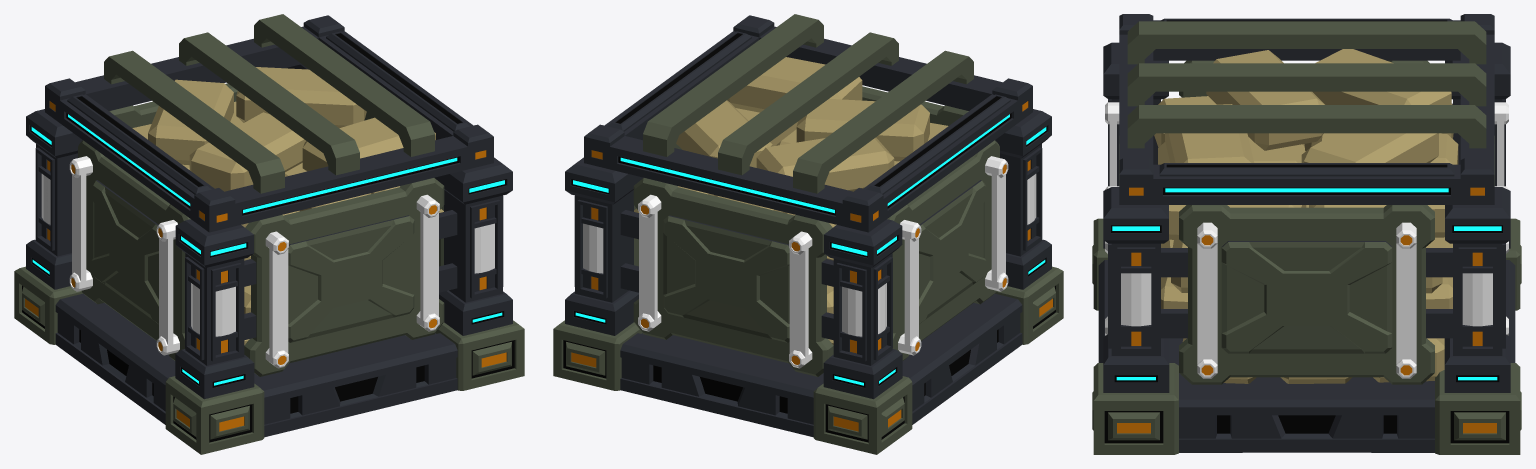
Rendered from SM_Military_Wall_T3.fbx.
3 views of the same model, side by side, from view 1: azimuth 30°, elevation 25°; view 2: azimuth 150°, elevation 25°; view 3: azimuth 270°, elevation 25° (orthographic). The views are drawn at different scales.
Visible parts, largest first — view 1: SM_Military_Wall_T3; view 2: SM_Military_Wall_T3; view 3: SM_Military_Wall_T3.
Part boxes in pixels (left/top/right/bottom): SM_Military_Wall_T3: left=14, top=14, right=524, bottom=454; SM_Military_Wall_T3: left=553, top=14, right=1063, bottom=454; SM_Military_Wall_T3: left=1092, top=14, right=1521, bottom=454.
Size of the model in its own units: 101 by 76.23 by 101.
